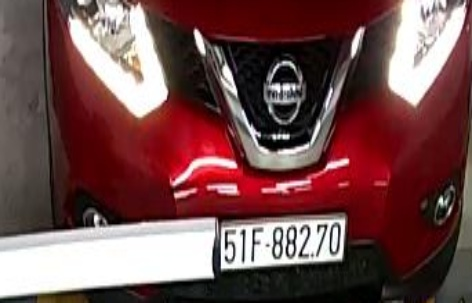plate: (220, 217, 344, 268)
